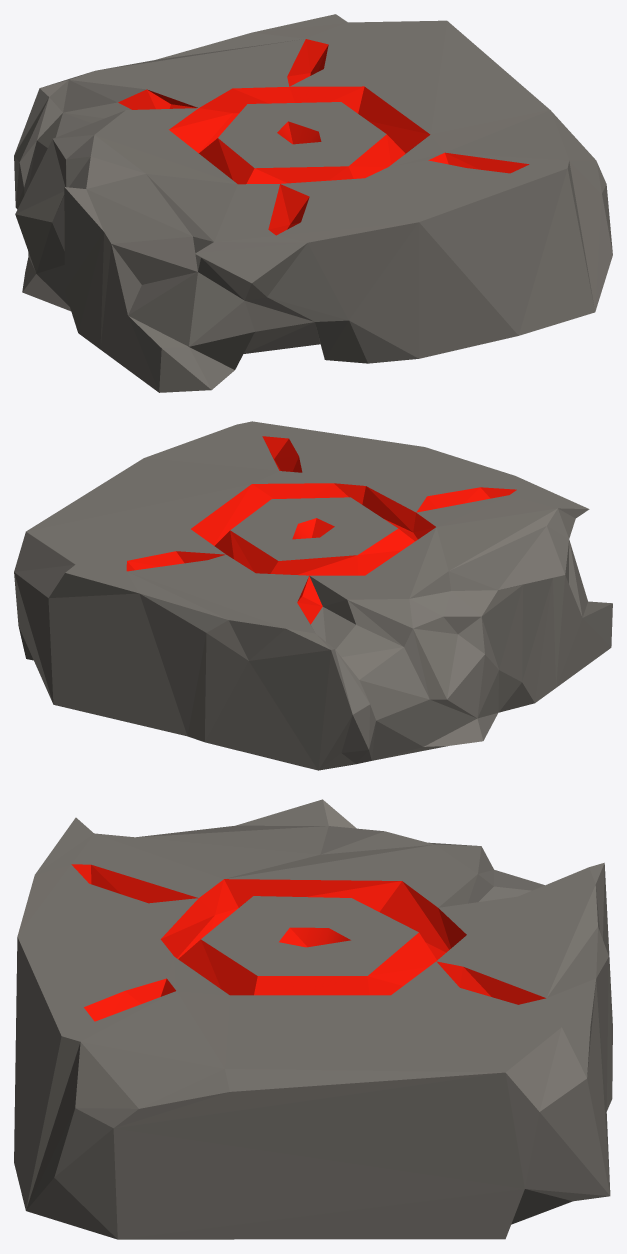
Rendered from SM_Env_Rune_Square_04.fbx.
3 views of the same model, one above another, from view 1: azimuth 30°, elevation 25°; view 2: azimuth 150°, elevation 25°; view 3: azimuth 270°, elevation 25° (orthographic). The views are drawn at different scales.
Visible parts, largest first — view 1: SM_Env_Rune_Square_04; view 2: SM_Env_Rune_Square_04; view 3: SM_Env_Rune_Square_04.
Boxes of the visible parts, x1,y1,x2,y2 form: SM_Env_Rune_Square_04: (14, 14, 612, 392); SM_Env_Rune_Square_04: (14, 421, 612, 770); SM_Env_Rune_Square_04: (14, 799, 612, 1239).
Size of the model in its own units: 0.9593 by 0.2738 by 0.8887.
